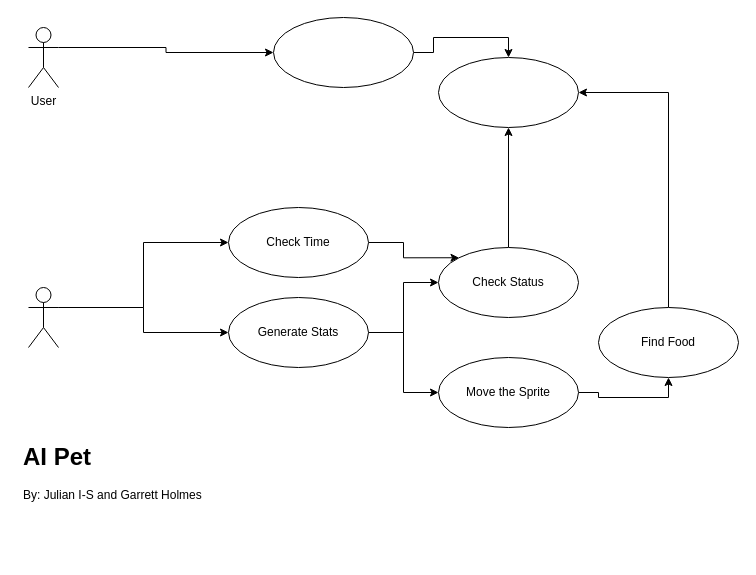
Image size: 756x575. Some labels were removed from this diagram. Here are the shapes that lost their labels. From the top down, the centre of each, then its label:
At [343,52]: "Navigate Menus".
At [508,92]: "Update Stats/Status".
At [43,317]: "Computer".
